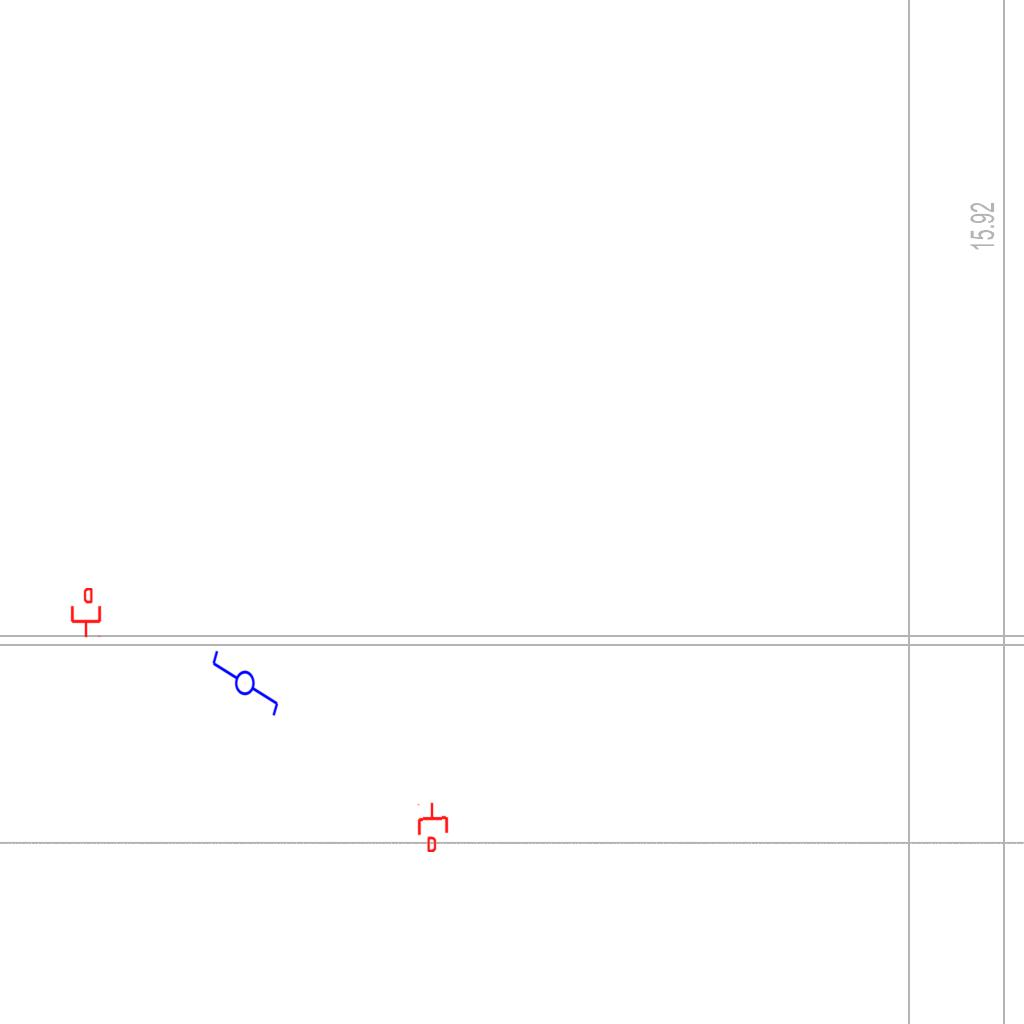Datenanschluss_einfach: (414, 801, 452, 853), (69, 588, 103, 638)
Wechselschalter: (210, 640, 282, 718)
